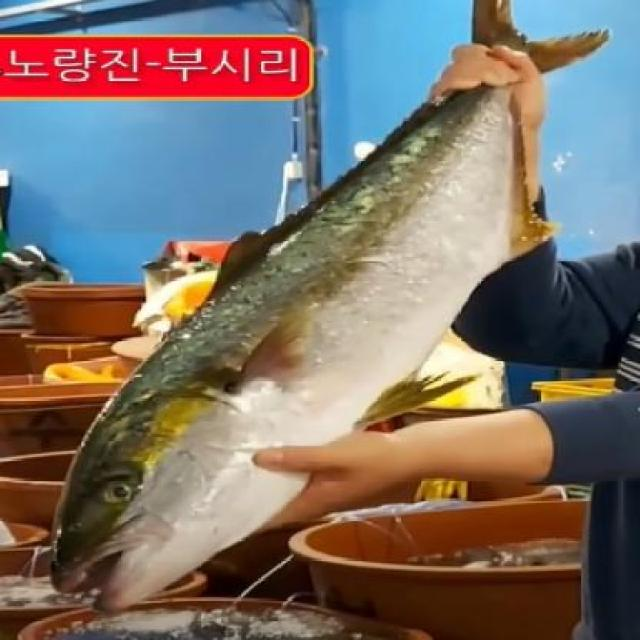Kingfish: (44, 7, 627, 616)
